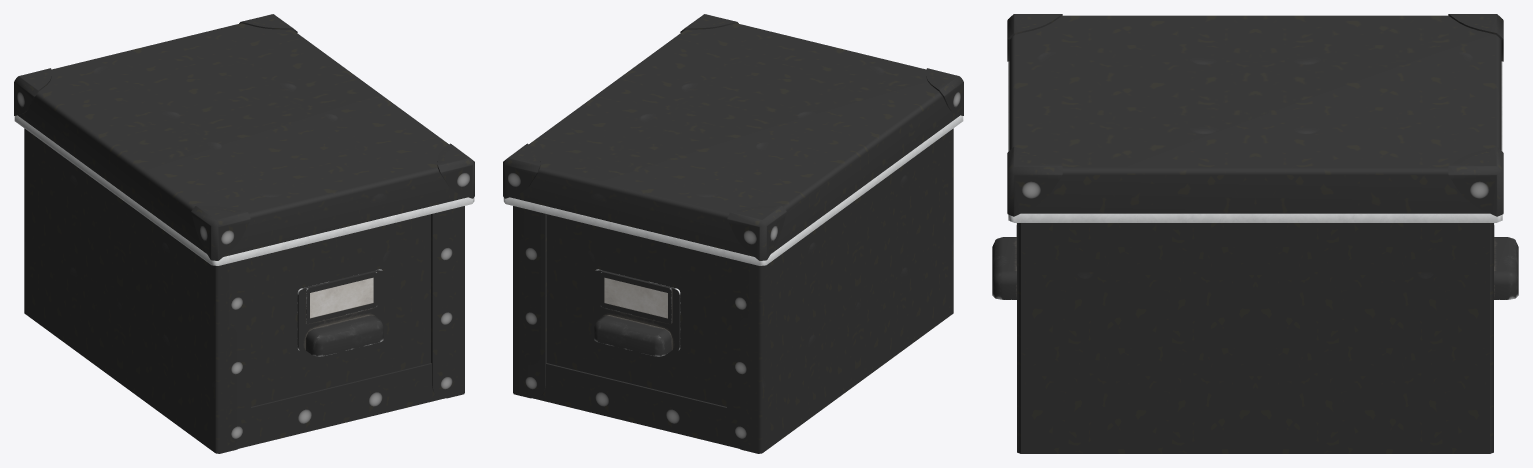
Rendered from ikea_filebox.fbx.
3 renders of one model, left to right at view 1: azimuth 30°, elevation 25°; view 2: azimuth 150°, elevation 25°; view 3: azimuth 270°, elevation 25°, orthographic. The views are drawn at different scales.
Parts seen in each view (by area): view 1: ikea_filebox; view 2: ikea_filebox; view 3: ikea_filebox.
Boxes of the visible parts, box(x1,y1,x2,y2) form: ikea_filebox: box(14, 14, 474, 453); ikea_filebox: box(503, 14, 963, 453); ikea_filebox: box(992, 14, 1518, 453).
Size of the model in its own units: 20.15 by 17.21 by 28.37.
